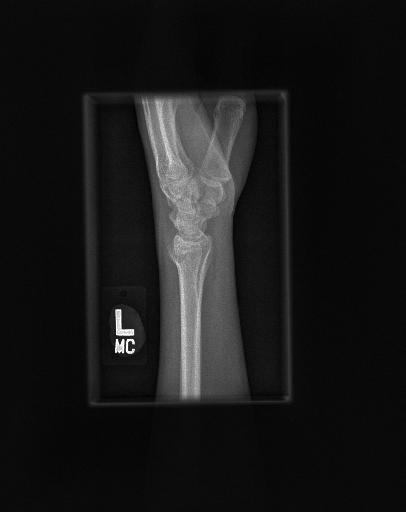fractured: (164, 236, 212, 300)
